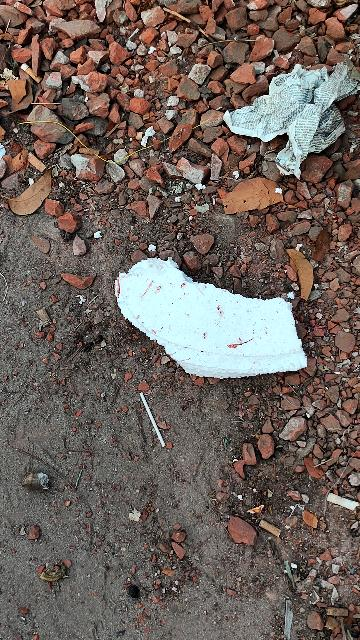cocksheet: (114, 211, 315, 405)
